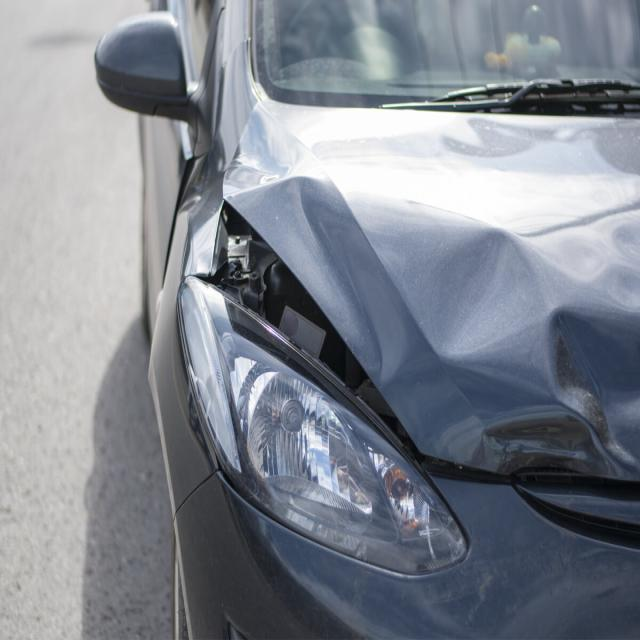dent: (177, 111, 640, 483)
misalignment: (197, 200, 510, 483)
